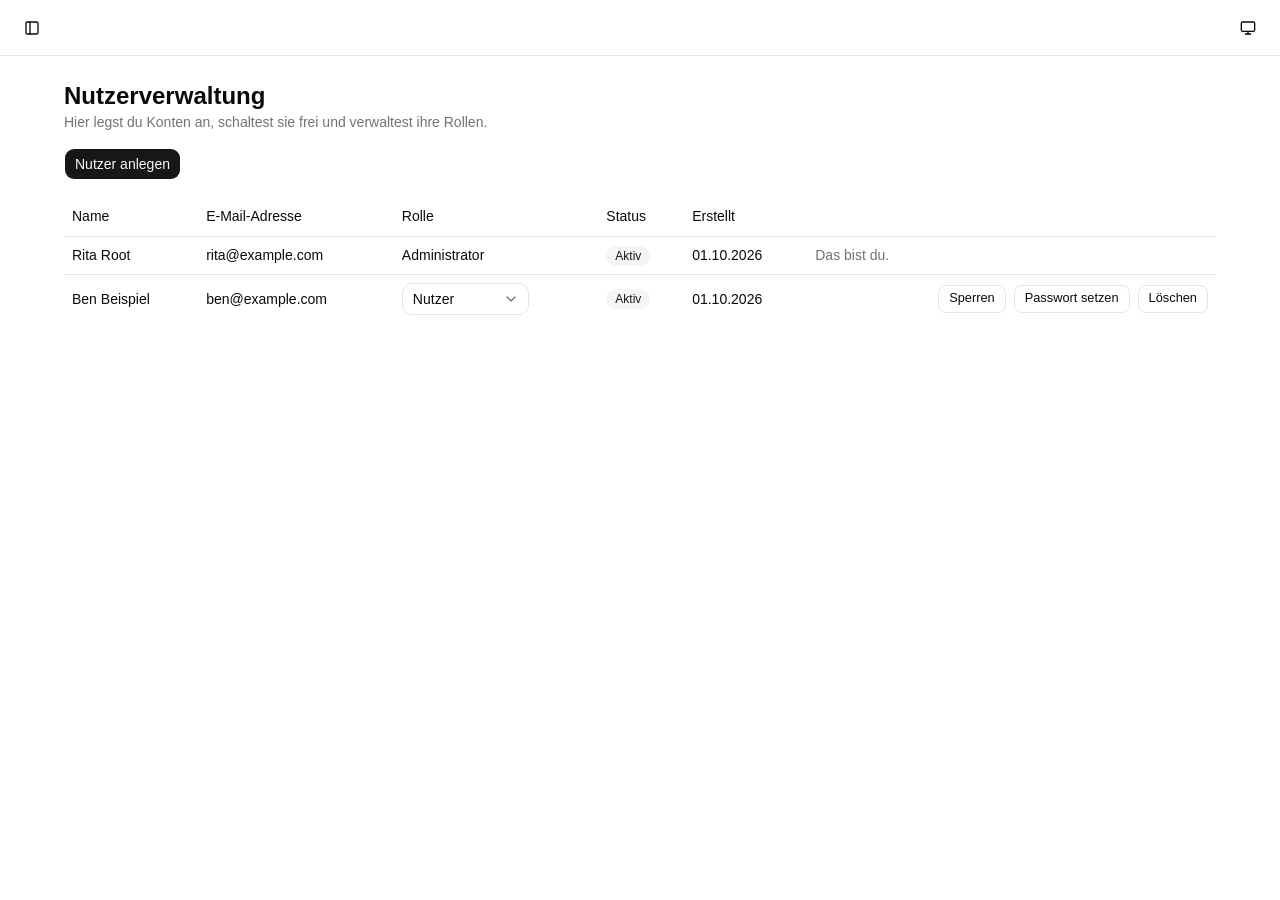
Test: AdminUsersPage: delete an account › asks first; cancelling sends nothing; confirming deletes once and refreshes
Expected: the heading "Nutzerverwaltung" is shown, x1=64 y1=82 x2=265 y2=109
Step 1. Click the button with aria-label "Ben Beispiel löschen" → click(1173, 298), box x1=1138 y1=284 x2=1208 y2=312
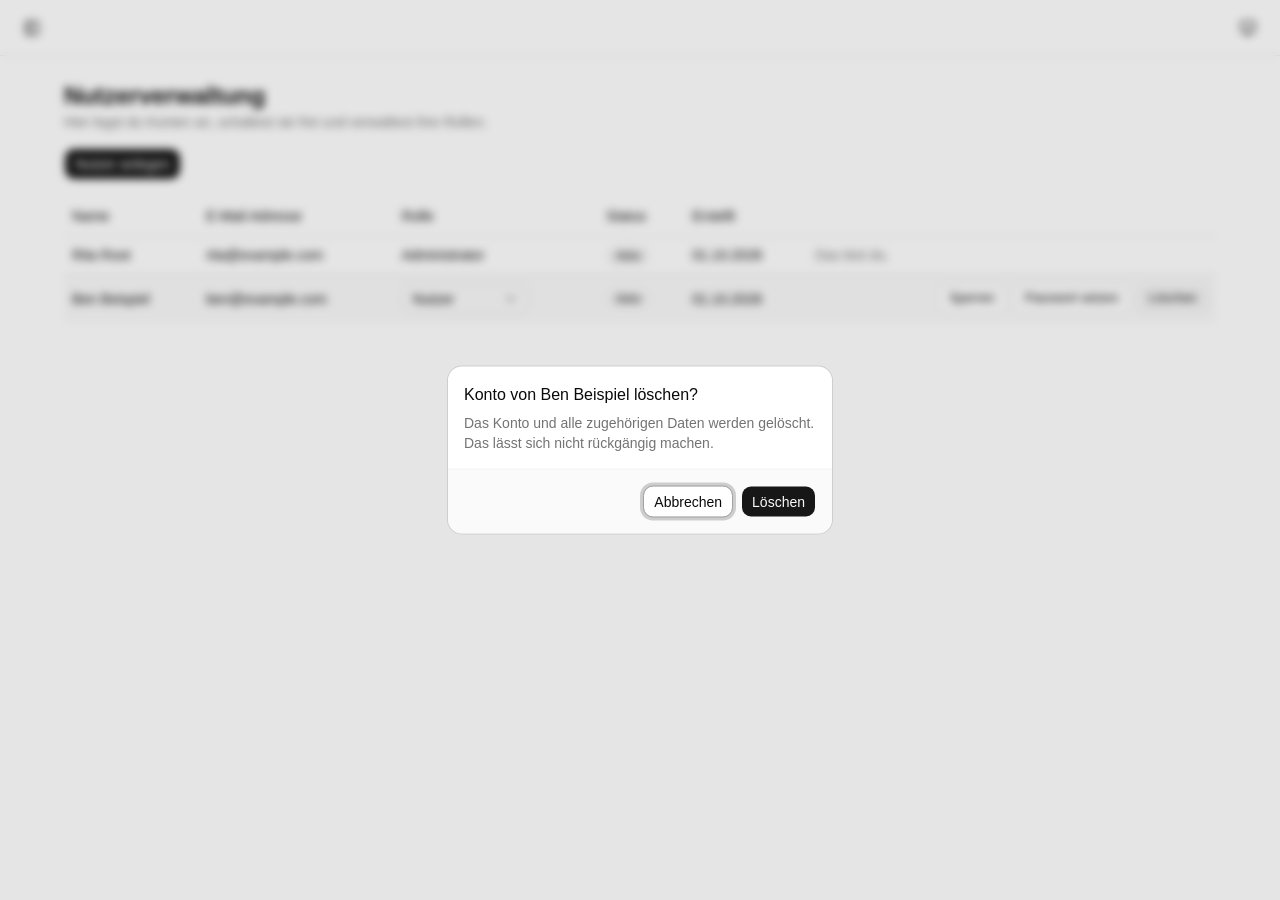
Step 2. Click the button "Abbrechen" → click(688, 502), box x1=643 y1=486 x2=733 y2=518
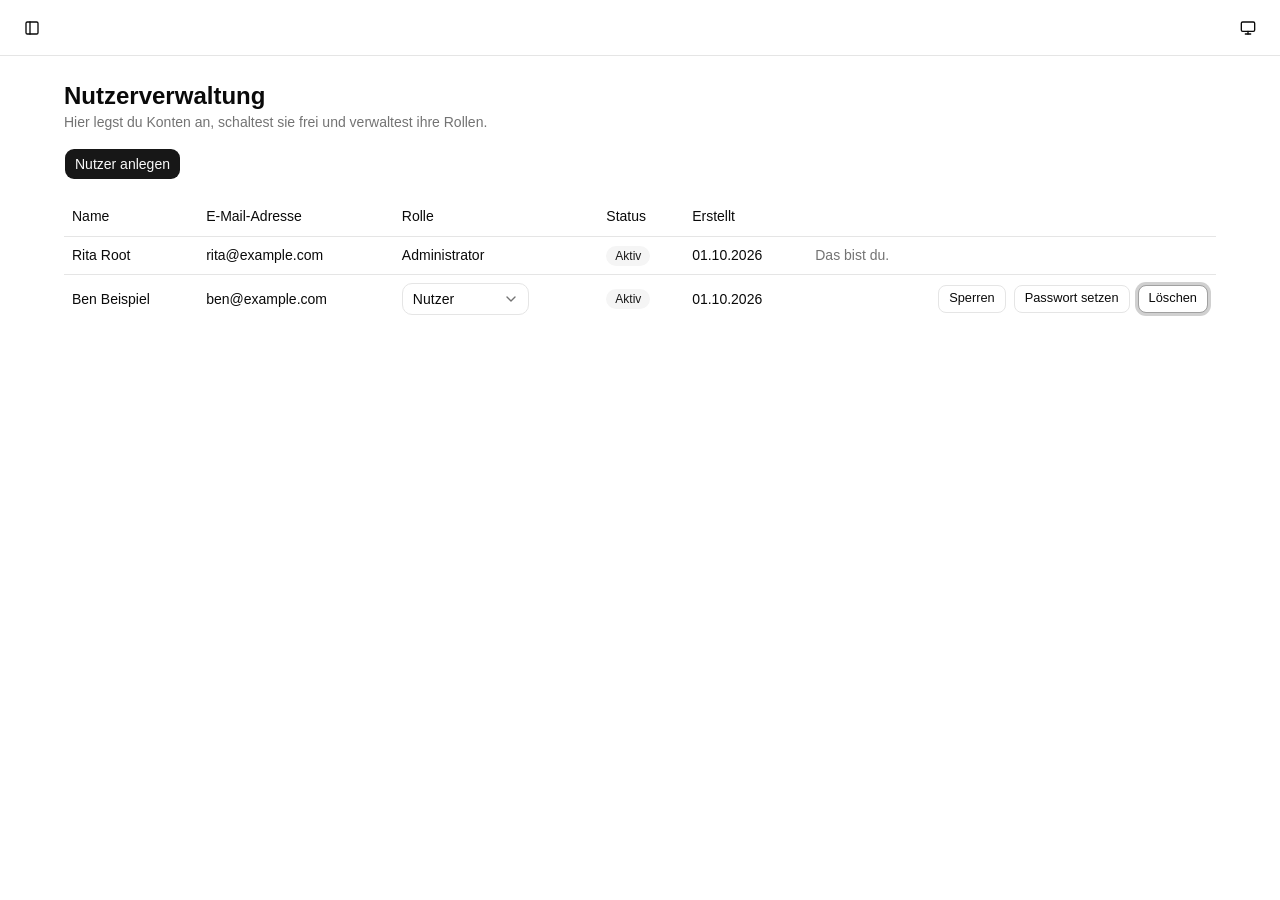
Step 3. Click the button with aria-label "Ben Beispiel löschen" → click(1173, 298), box x1=1138 y1=284 x2=1208 y2=312
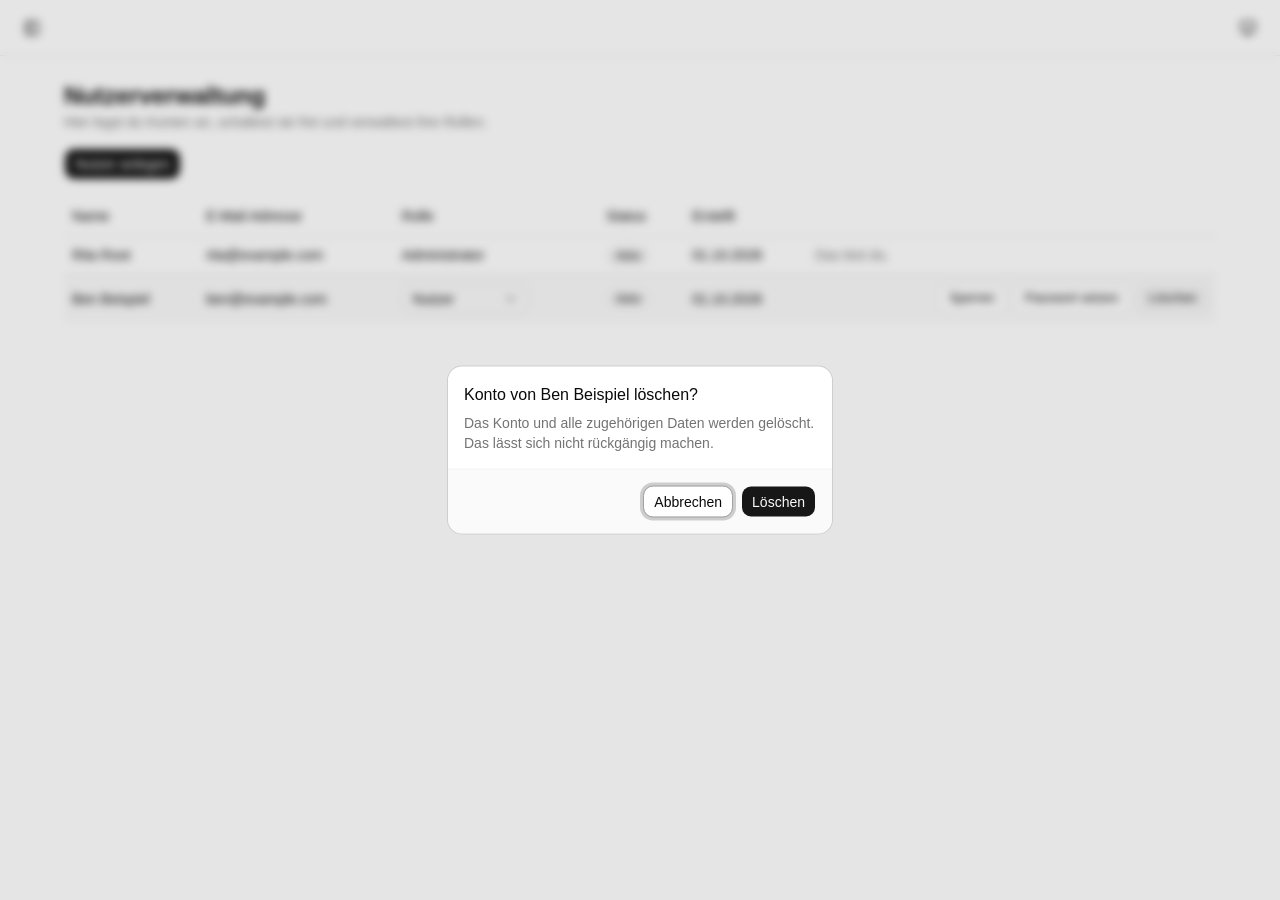
Step 4. Click the button "Löschen" → click(779, 502), box x1=741 y1=486 x2=816 y2=518
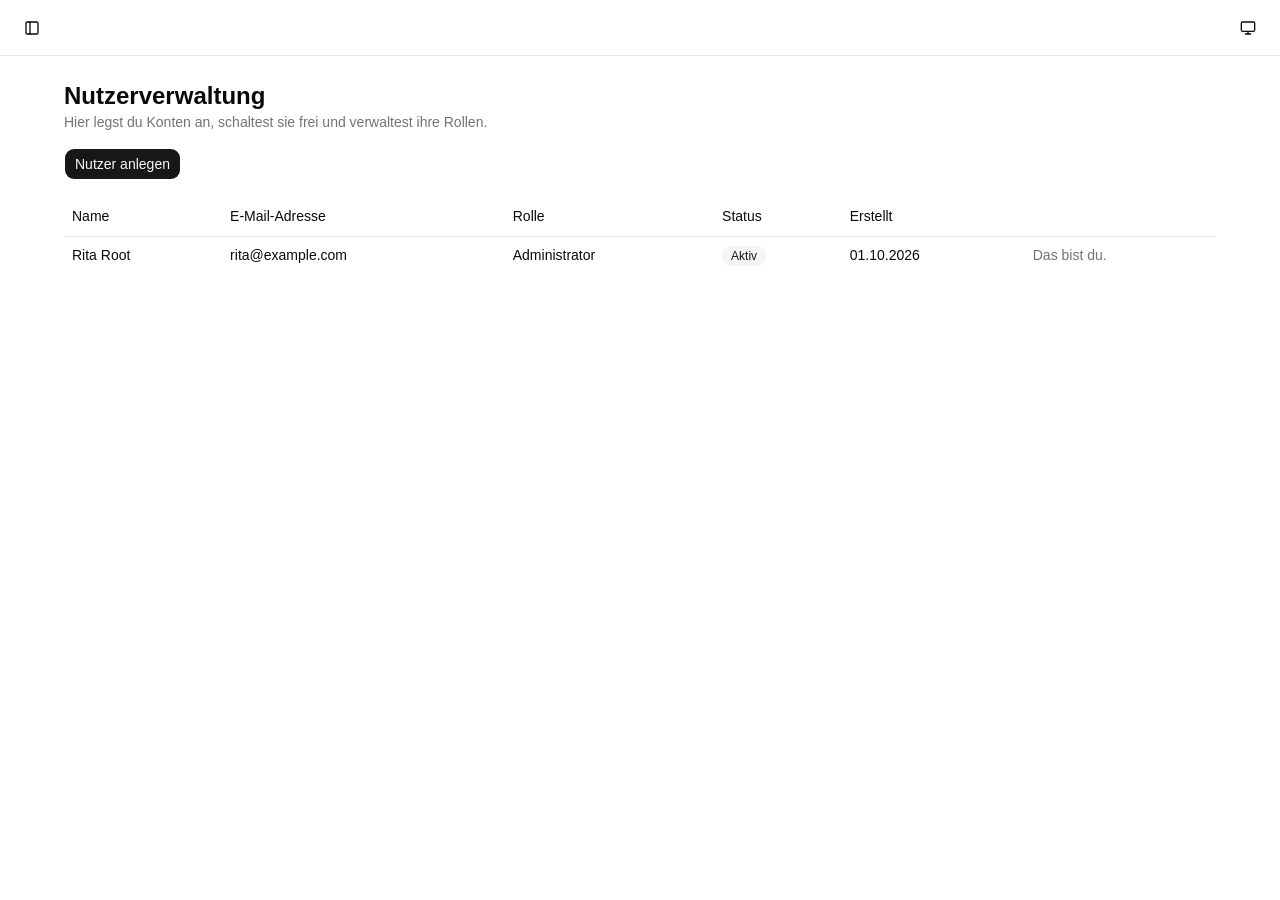
Expected: the cell "Ben Beispiel" is gone
